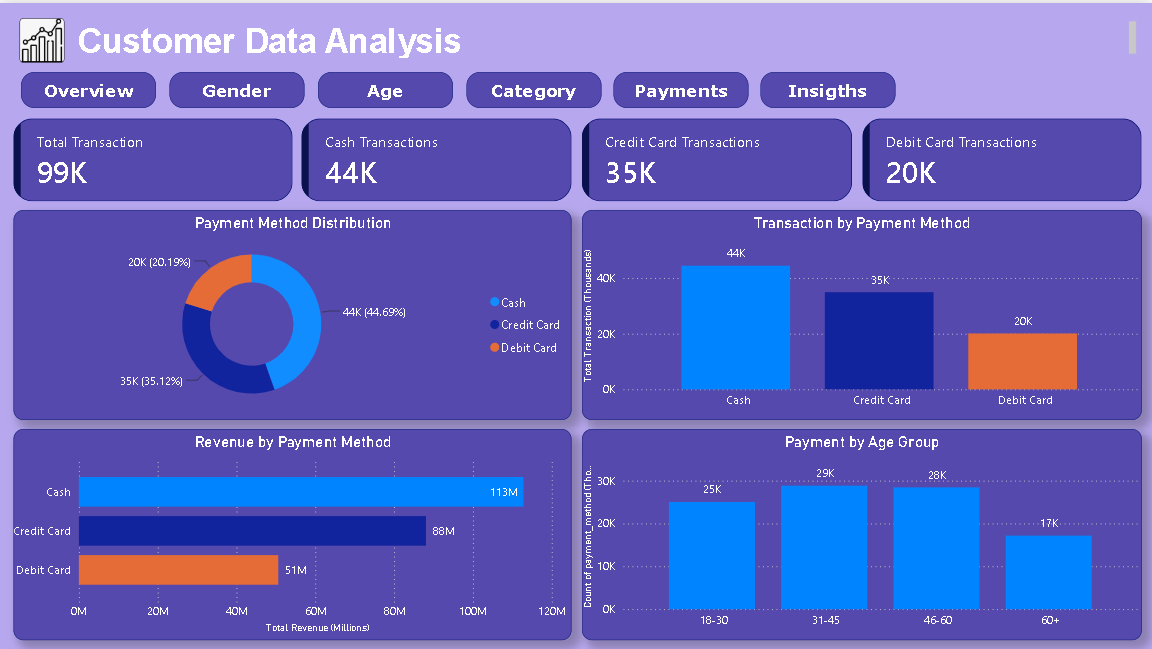

The page's visual inventory and layout, read from the dashboard file:
{"tool":"powerbi","page":{"name":"Payment Analysis","canvas":[1280,720],"ordinal":4},"visuals":[{"type":"cardVisual","fields":{"Data":["project_customer_segmentation customer.Total Transaction"]},"box":[15,127.5,310,92.5],"z":0},{"type":"textbox","box":[81.4,15.7,1185.7,50],"z":1000},{"type":"cardVisual","fields":{"Data":["project_customer_segmentation customer.Cash Transactions"]},"box":[335,127.5,300,92.5],"z":2000},{"type":"cardVisual","fields":{"Data":["project_customer_segmentation customer.Credit Card Transactions"]},"box":[646.2,127.5,300,92.5],"z":3000},{"type":"cardVisual","fields":{"Data":["project_customer_segmentation customer.Debit Card Transactions"]},"box":[957.5,127.5,310,92.5],"z":4000},{"type":"actionButton","box":[22.5,76.2,150,40],"z":5000},{"type":"actionButton","box":[187.5,76.2,150,40],"z":6000},{"type":"actionButton","box":[353.8,76.2,150,40],"z":7000},{"type":"actionButton","box":[518.8,76.2,150,40],"z":8000},{"type":"actionButton","box":[681.2,76.2,150,40],"z":9000},{"type":"actionButton","box":[845,76.2,150,40],"z":10000},{"type":"image","box":[22,16,50,50],"z":11000},{"type":"donutChart","title":"Payment Method Distribution","fields":{"Category":["project_customer_segmentation customer.payment_method"],"Y":["project_customer_segmentation customer.Total Transaction"]},"box":[15.5,230,620,233.6],"z":12000},{"type":"columnChart","title":"Transaction by Payment Method","fields":{"Category":["project_customer_segmentation customer.payment_method"],"Y":["project_customer_segmentation customer.Total Transaction"]},"box":[646.4,230,621.8,233.6],"z":13000},{"type":"clusteredBarChart","title":"Revenue by Payment Method","fields":{"Category":["project_customer_segmentation customer.payment_method"],"Y":["project_customer_segmentation customer.Total Revenue"]},"box":[15.5,473.6,620,234.5],"z":14000},{"type":"clusteredColumnChart","title":"Payment by Age Group","fields":{"Category":["project_customer_segmentation customer.age_group"],"Y":["CountNonNull(project_customer_segmentation customer.payment_method)"]},"box":[646.4,473.6,621.8,234.5],"z":15000}]}

Visuals, with their boxes in screenshot pixels (x1, y1, x2, y2), scaled from the page's 1280x720 canvas onto the 1152x649 screenshot:
cardVisual - project_customer_segmentation customer.Total Transaction: locate(14, 115, 292, 198)
textbox: locate(73, 14, 1140, 59)
cardVisual - project_customer_segmentation customer.Cash Transactions: locate(302, 115, 572, 198)
cardVisual - project_customer_segmentation customer.Credit Card Transactions: locate(582, 115, 852, 198)
cardVisual - project_customer_segmentation customer.Debit Card Transactions: locate(862, 115, 1141, 198)
actionButton: locate(20, 69, 155, 105)
actionButton: locate(169, 69, 304, 105)
actionButton: locate(318, 69, 453, 105)
actionButton: locate(467, 69, 602, 105)
actionButton: locate(613, 69, 748, 105)
actionButton: locate(760, 69, 896, 105)
image: locate(20, 14, 65, 59)
"Payment Method Distribution" donutChart: locate(14, 207, 572, 418)
"Transaction by Payment Method" columnChart: locate(582, 207, 1141, 418)
"Revenue by Payment Method" clusteredBarChart: locate(14, 427, 572, 638)
"Payment by Age Group" clusteredColumnChart: locate(582, 427, 1141, 638)
